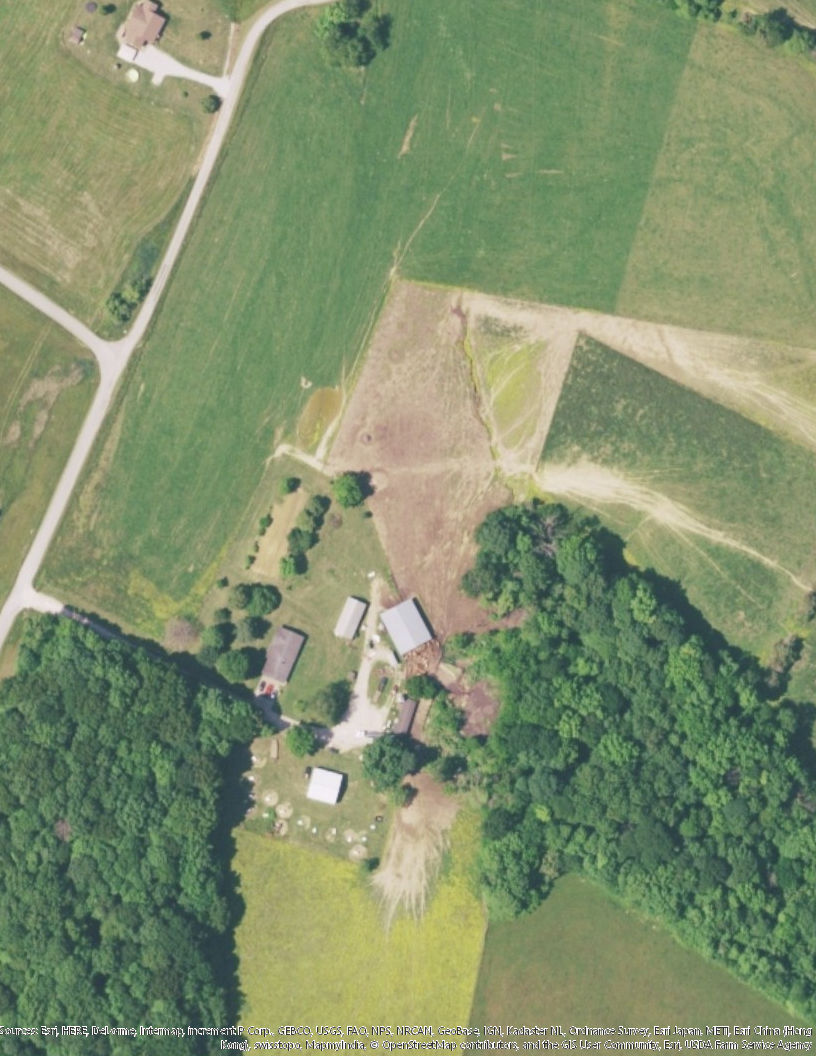cafo: (378, 596, 440, 662)
